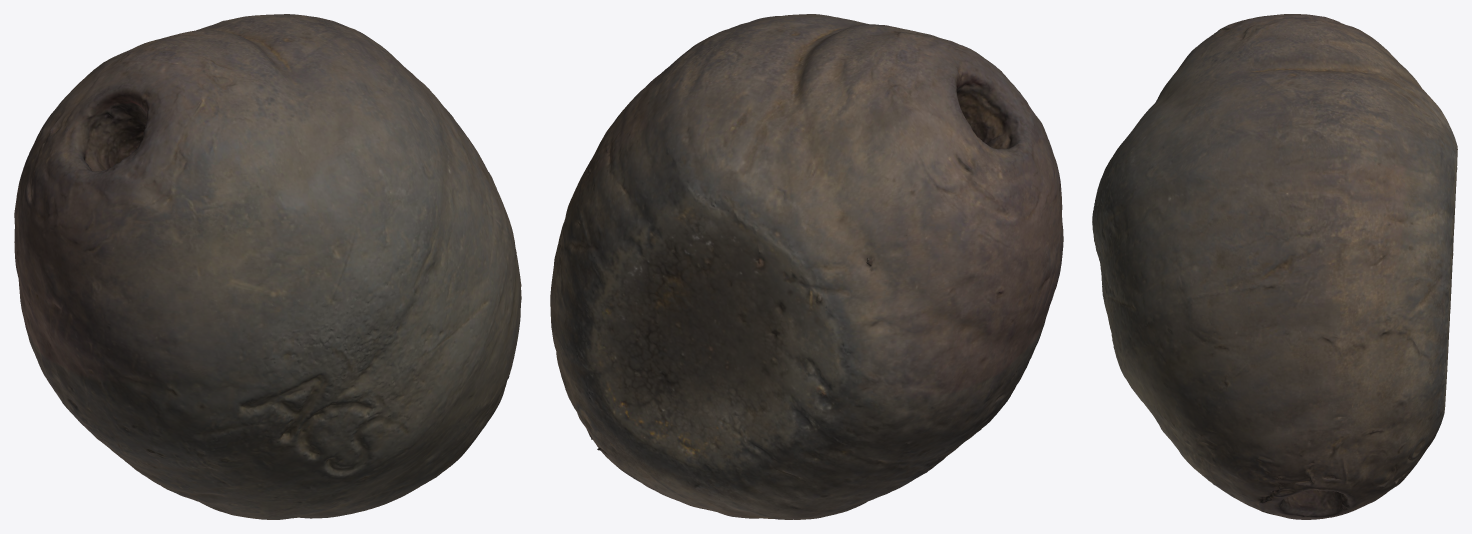
The model's file is pela_borracha_otimizado.glb.
3 views of the same model, side by side, from view 1: azimuth 30°, elevation 25°; view 2: azimuth 150°, elevation 25°; view 3: azimuth 270°, elevation 25° (orthographic). The views are drawn at different scales.
Visible parts, largest first — view 1: Mesh_0_Part_0; view 2: Mesh_0_Part_0; view 3: Mesh_0_Part_0.
Part boxes in pixels (left/top/right/bottom): Mesh_0_Part_0: left=14, top=14, right=521, bottom=519; Mesh_0_Part_0: left=550, top=14, right=1063, bottom=519; Mesh_0_Part_0: left=1092, top=14, right=1457, bottom=519.
Size of the model in its own units: 22.47 by 22.69 by 17.99.
1 material, 1 textured.
